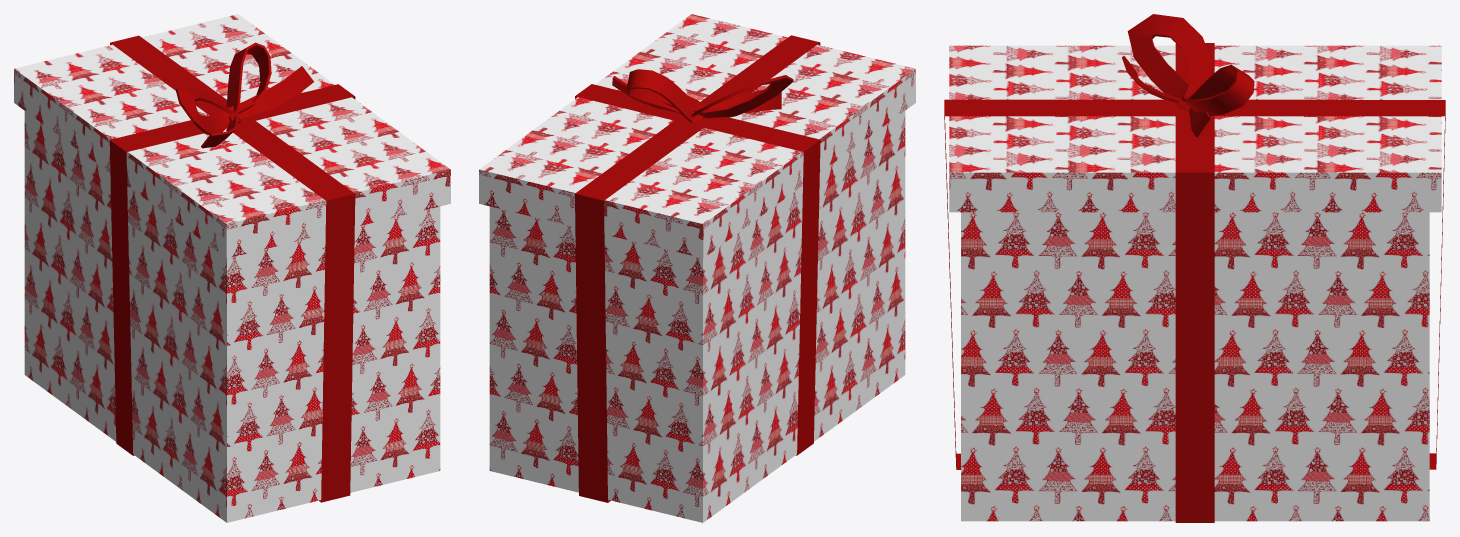
File: gift 04 ribbon01.fbx
3 renders of one model, left to right at view 1: azimuth 30°, elevation 25°; view 2: azimuth 150°, elevation 25°; view 3: azimuth 270°, elevation 25°, orthographic. The views are drawn at different scales.
Visible parts, largest first — view 1: gift, ribbon_01, Gift04; view 2: gift, ribbon_01, Gift04; view 3: gift, ribbon_01, Gift04.
Part boxes in pixels (x1,y1,x2,y2): gift: [14, 14, 450, 522]; ribbon_01: [109, 35, 355, 502]; Gift04: [176, 42, 313, 148]; gift: [479, 14, 915, 522]; ribbon_01: [575, 35, 820, 502]; Gift04: [612, 69, 793, 122]; gift: [949, 45, 1441, 521]; ribbon_01: [944, 43, 1445, 522]; Gift04: [1122, 14, 1254, 138].
Size of the model in its own units: 39.26 by 58.66 by 64.31.
2 materials, 1 textured.
